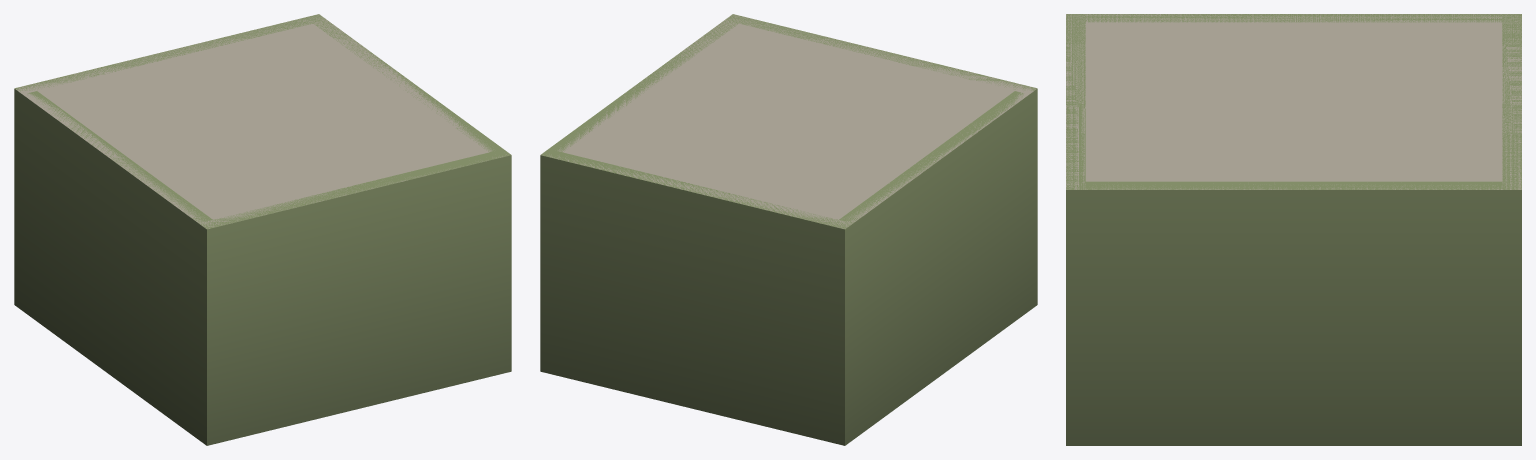
The model's file is int_faceme.glb.
3 views of the same model, side by side, from view 1: azimuth 30°, elevation 25°; view 2: azimuth 150°, elevation 25°; view 3: azimuth 270°, elevation 25° (orthographic). The views are drawn at different scales.
Visible parts, largest first — view 1: ROOM; view 2: ROOM; view 3: ROOM.
Boxes of the visible parts, x1,y1,x2,y2 form: ROOM: [14, 14, 511, 445]; ROOM: [540, 14, 1037, 445]; ROOM: [1066, 14, 1521, 445].
Bounding box in the file's own units: 4.2 × 2.85 × 4.6.
